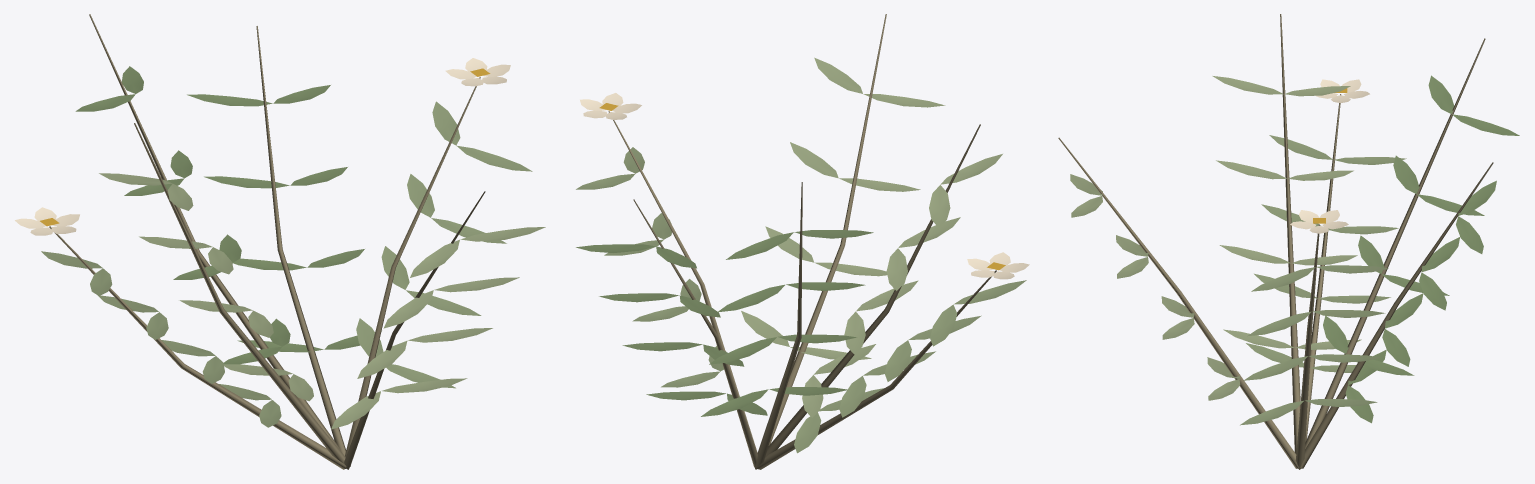
The model's file is CisteSauge_3_Low.fbx.
The picture shows the model from 3 angles, left to right: view 1: azimuth 30°, elevation 25°; view 2: azimuth 150°, elevation 25°; view 3: azimuth 270°, elevation 25°; orthographic projection. The views are drawn at different scales.
Visible parts, largest first — view 1: CisteSauge_3_Low; view 2: CisteSauge_3_Low; view 3: CisteSauge_3_Low.
Part boxes in pixels (box(x1,y1,x2,y2)): CisteSauge_3_Low: box(15, 14, 545, 469); CisteSauge_3_Low: box(576, 14, 1029, 469); CisteSauge_3_Low: box(1058, 14, 1519, 469).
Bounding box in the file's own units: 87.55 × 73.25 × 83.9.
